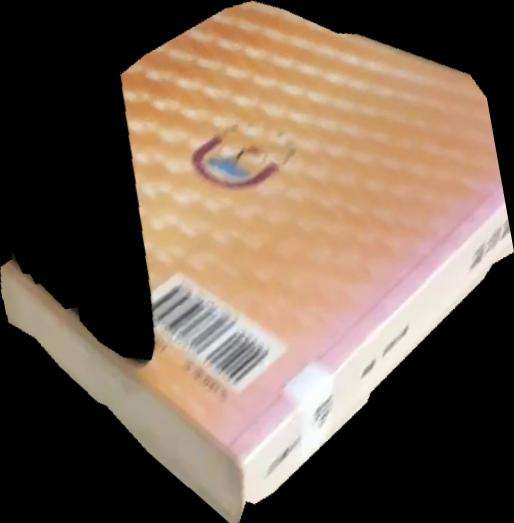flat: (1, 1, 514, 523)
